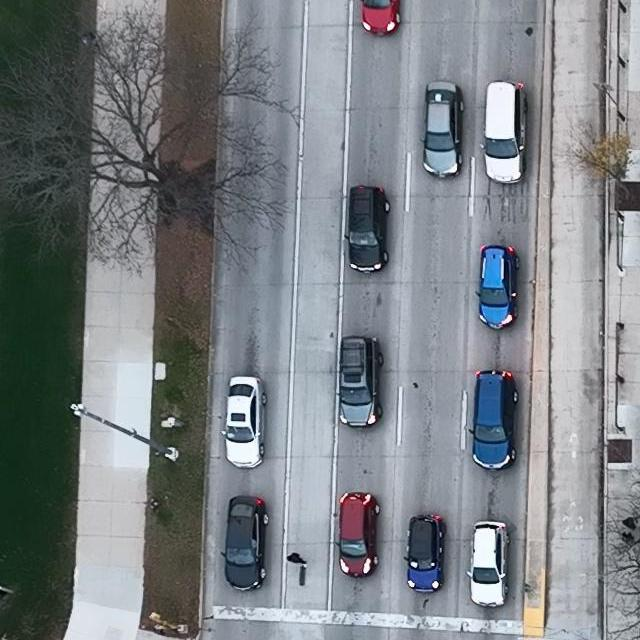car: (468, 370, 520, 471), (479, 80, 527, 184), (219, 496, 269, 593), (334, 336, 384, 429), (219, 374, 268, 468), (421, 81, 465, 178), (344, 184, 390, 273), (335, 491, 381, 577), (465, 521, 510, 608), (475, 244, 519, 330), (404, 512, 448, 594), (359, 0, 400, 36)
